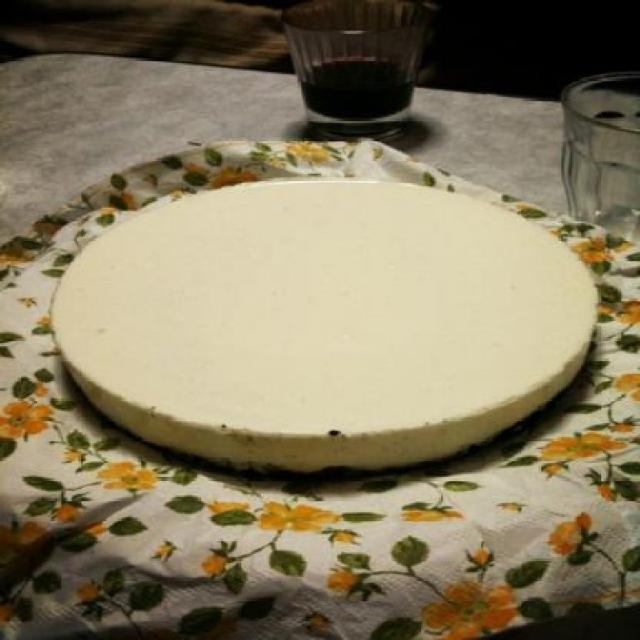Rare cheese cake: (22, 163, 628, 483)
